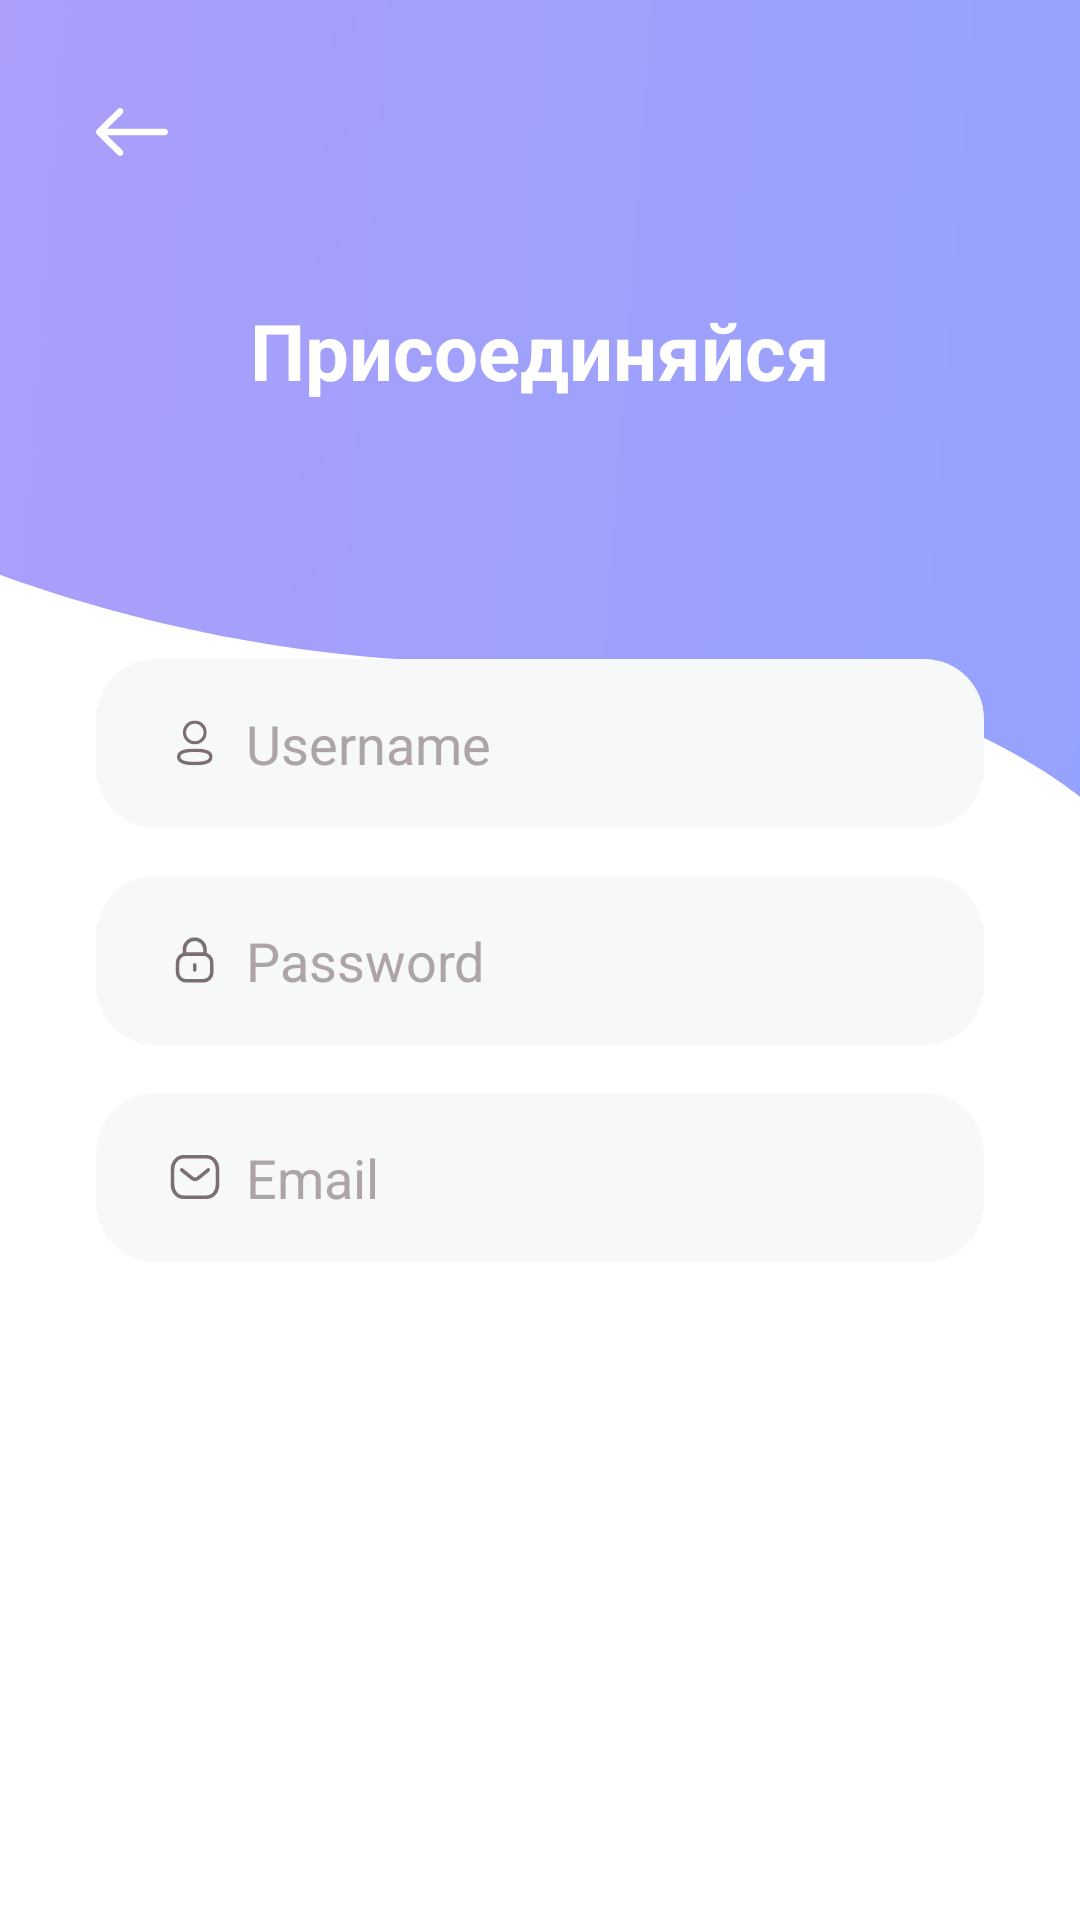

Locate icon controls on the screen. Image size 1080px x 1920px, boxes as (x1, y1, x2, y2).
arrow: (96, 108, 168, 156)
